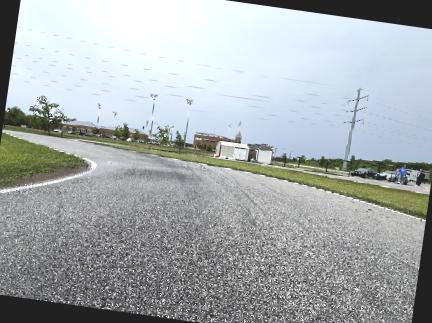Grass: (106, 145, 428, 218), (0, 133, 86, 188)
Lane: (0, 133, 425, 322)
